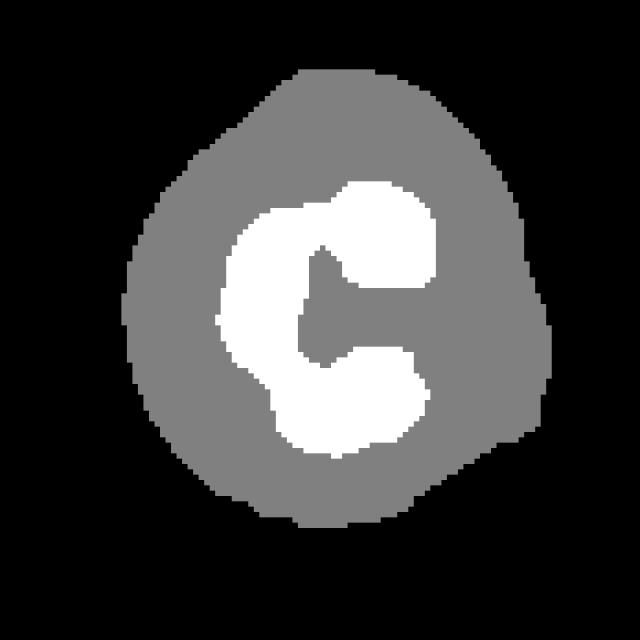WBC: (89, 53, 568, 539)
